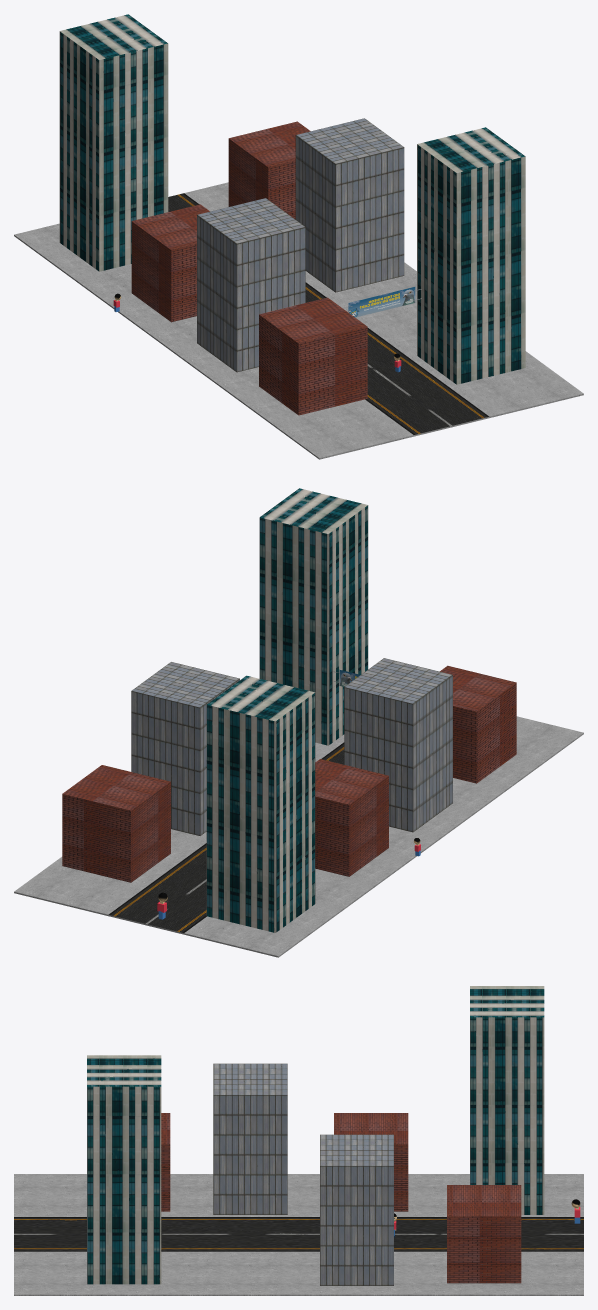
Rendered from mesto3_4.gltf.
3 renders of one model, top to bottom at view 1: azimuth 30°, elevation 25°; view 2: azimuth 150°, elevation 25°; view 3: azimuth 270°, elevation 25°, orthographic. The views are drawn at different scales.
Parts seen in each view (by area): view 1: cesta, bloki__levo.004, bloki_desno.004, bloki__levo.002, bloki_desno.002, bloki_desno.001, bloki_desno.003, bloki__levo.003, golob_ovira; view 2: bloki_desno.004, cesta, bloki__levo.004, bloki_desno.002, bloki__levo.002, bloki__levo.003, bloki_desno.003, bloki_desno.001; view 3: cesta, bloki__levo.004, bloki_desno.004, bloki_desno.002, bloki__levo.002, bloki__levo.003, bloki_desno.003, bloki_desno.001.
Boxes of the visible parts, bbox=[...] form: cesta: bbox=[14, 182, 583, 459]; bloki__levo.004: bbox=[417, 127, 525, 384]; bloki_desno.004: bbox=[59, 14, 168, 271]; bloki__levo.002: bbox=[295, 118, 404, 292]; bloki_desno.002: bbox=[197, 198, 305, 372]; bloki_desno.001: bbox=[259, 297, 367, 415]; bloki_desno.003: bbox=[131, 204, 209, 322]; bloki__levo.003: bbox=[228, 121, 310, 219]; golob_ovira: bbox=[343, 287, 421, 317]; bloki_desno.004: bbox=[206, 675, 315, 932]; cesta: bbox=[14, 716, 583, 957]; bloki__levo.004: bbox=[259, 488, 368, 745]; bloki_desno.002: bbox=[344, 658, 452, 832]; bloki__levo.002: bbox=[131, 662, 239, 835]; bloki__levo.003: bbox=[62, 765, 170, 882]; bloki_desno.003: bbox=[315, 759, 388, 876]; bloki_desno.001: bbox=[440, 665, 516, 783]; cesta: bbox=[14, 1174, 583, 1295]; bloki__levo.004: bbox=[87, 1055, 161, 1284]; bloki_desno.004: bbox=[470, 986, 544, 1214]; bloki_desno.002: bbox=[213, 1063, 287, 1214]; bloki__levo.002: bbox=[320, 1134, 393, 1285]; bloki__levo.003: bbox=[447, 1185, 521, 1283]; bloki_desno.003: bbox=[334, 1113, 408, 1211]; bloki_desno.001: bbox=[161, 1113, 170, 1211].
Bounding box in the file's own units: 11.84 × 8.53 × 22.
25 materials, 25 textured.
